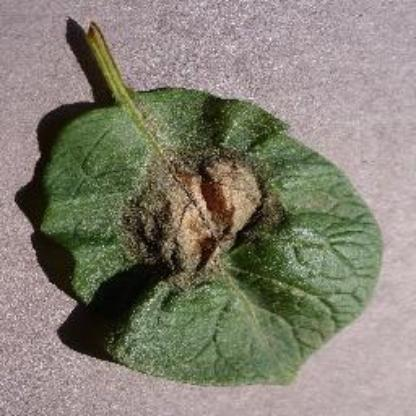Late-Blight: (28, 53, 388, 397)
